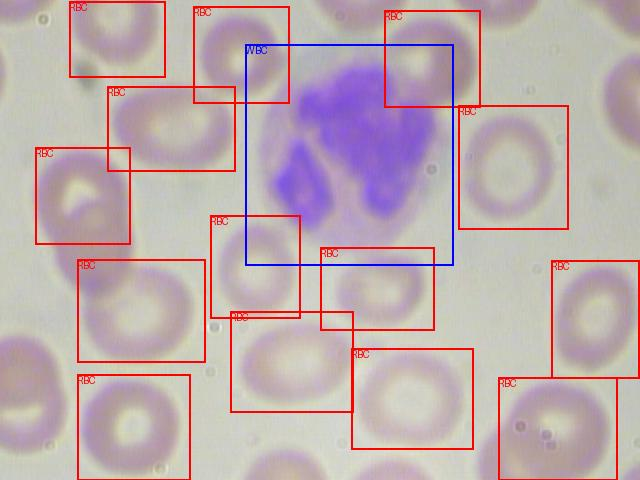RBC: (458, 105, 568, 229), (77, 259, 205, 362), (230, 311, 353, 412), (351, 348, 473, 449), (498, 377, 617, 480), (77, 374, 190, 480), (107, 86, 235, 171), (551, 260, 639, 378), (320, 247, 434, 330), (193, 6, 289, 103), (384, 10, 480, 107), (210, 215, 300, 318), (35, 147, 130, 244), (69, 1, 165, 77)
WBC: (245, 44, 453, 265)
